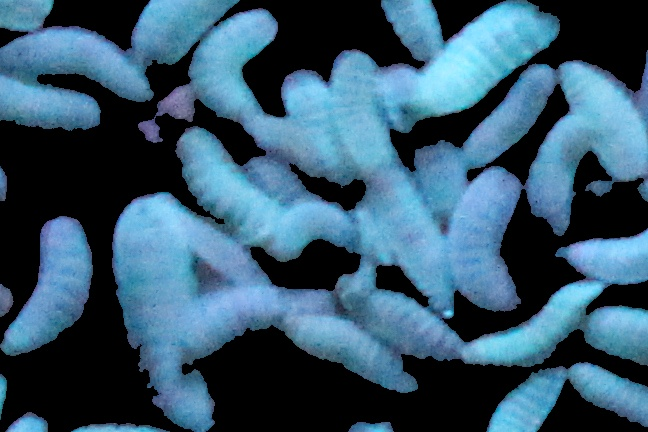larvae: (102, 194, 221, 432), (385, 1, 563, 120), (176, 128, 294, 253), (169, 10, 290, 121), (165, 274, 299, 374), (1, 19, 154, 106), (444, 160, 528, 317), (365, 167, 460, 305), (1, 215, 91, 356), (441, 66, 564, 166), (459, 280, 602, 362), (557, 57, 648, 184), (324, 39, 399, 187), (133, 1, 244, 76), (281, 69, 354, 183), (360, 288, 464, 367), (290, 312, 404, 377), (269, 196, 360, 271), (528, 99, 576, 237), (482, 365, 567, 432), (553, 229, 648, 287), (569, 362, 648, 430), (1, 80, 101, 133), (582, 300, 648, 367), (381, 1, 449, 58), (1, 1, 51, 33)
